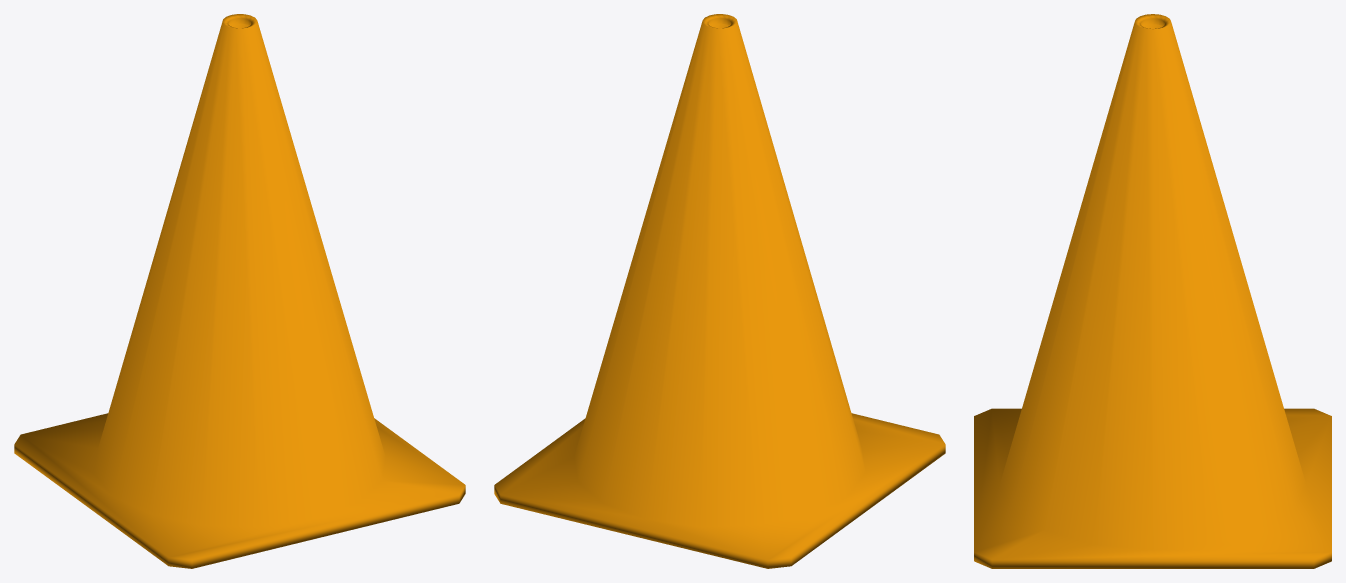
File: Signal Cone.fbx
3 renders of one model, left to right at view 1: azimuth 30°, elevation 25°; view 2: azimuth 150°, elevation 25°; view 3: azimuth 270°, elevation 25°, orthographic. The views are drawn at different scales.
Visible parts, largest first — view 1: Signal Cone; view 2: Signal Cone; view 3: Signal Cone.
Boxes of the visible parts, x1,y1,x2,y2 form: Signal Cone: [14, 14, 465, 568]; Signal Cone: [494, 14, 945, 568]; Signal Cone: [974, 14, 1331, 568].
Size of the model in its own units: 35.01 by 50.93 by 35.01.
